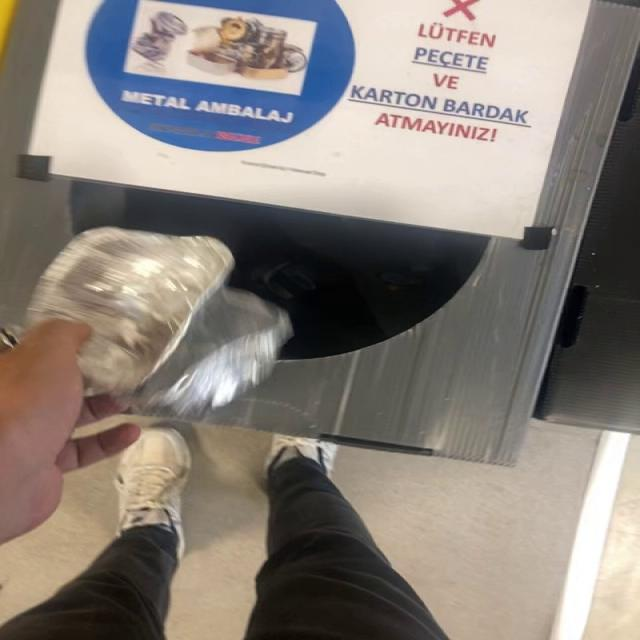metal: (27, 227, 292, 418)
